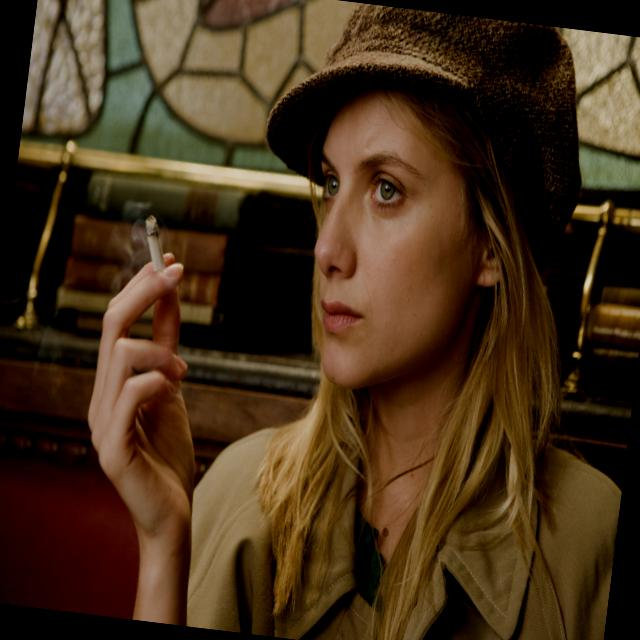smoke: (137, 207, 172, 264)
